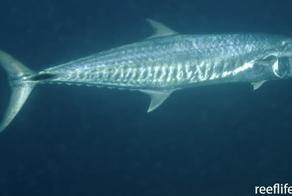Scombridae -Tunas-: (0, 13, 292, 137)
